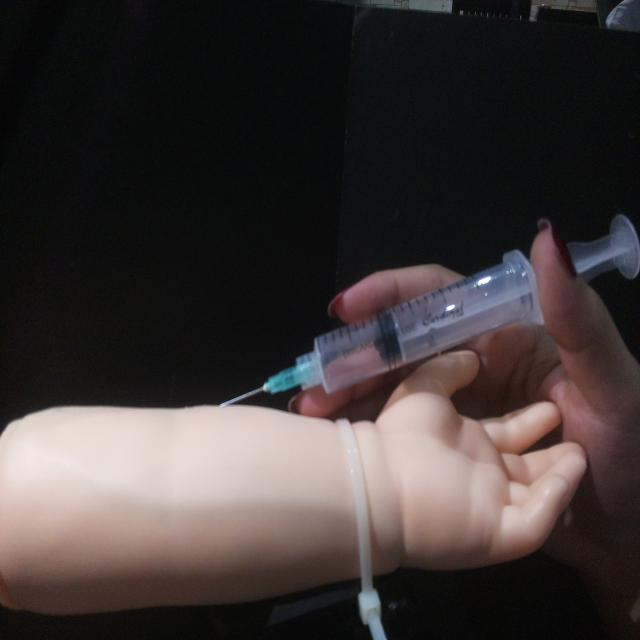19deg: (216, 210, 638, 410)
